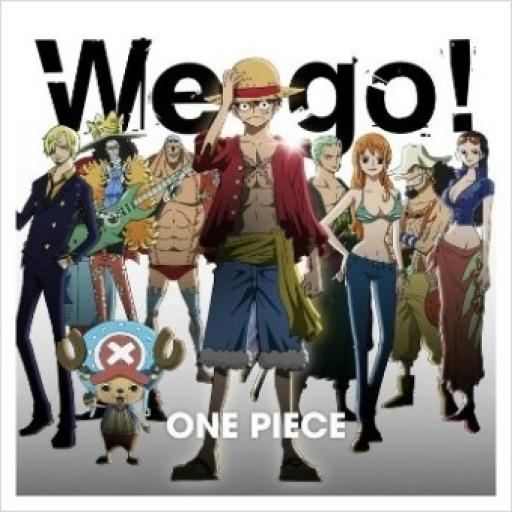Luffy: (208, 48, 296, 133)
Nami: (352, 131, 396, 188)
NicoRobin: (456, 126, 487, 173)
Usopp: (394, 138, 440, 200)
Zoro: (314, 134, 344, 180)
sanji: (33, 110, 82, 177)
